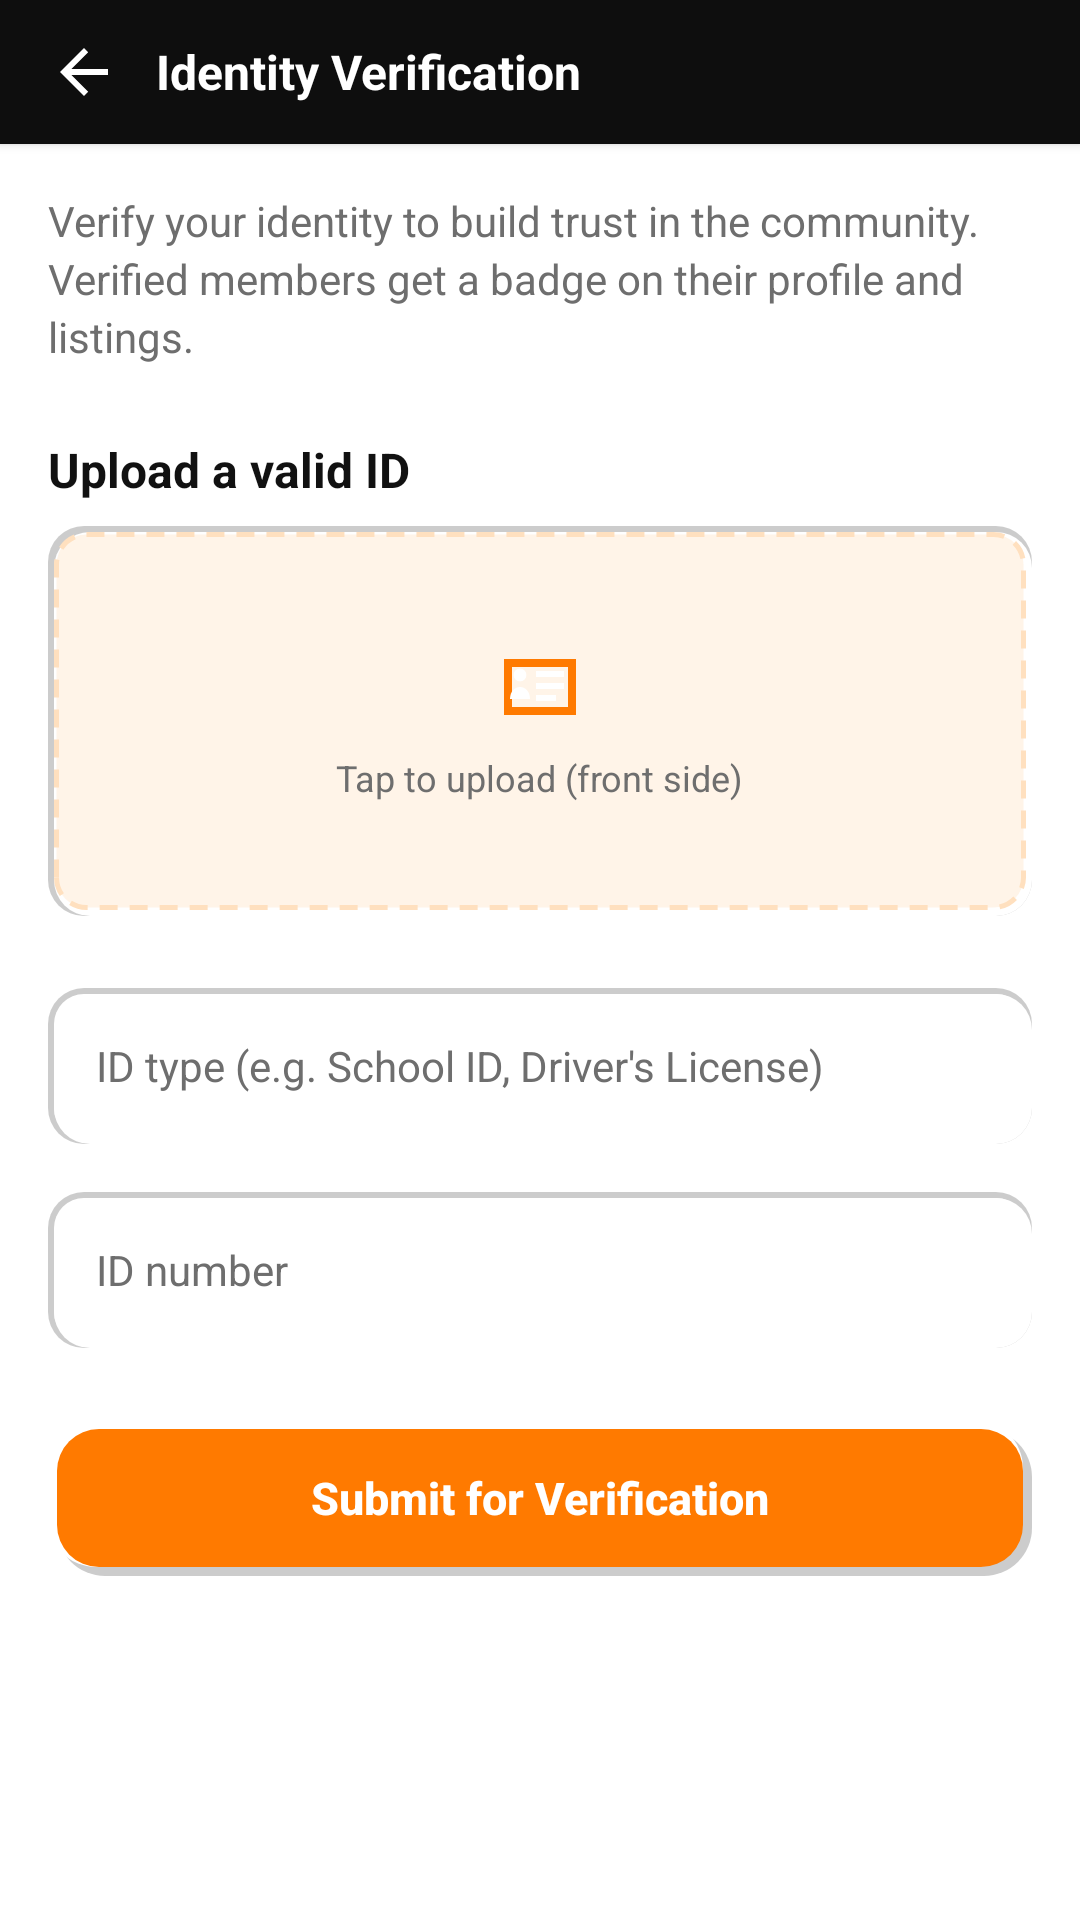

Screen size 1080px x 1920px. Icon name, then its box in pixels as [x1,y1,x2,y2]:
Navigate back: [60,48,108,96]
